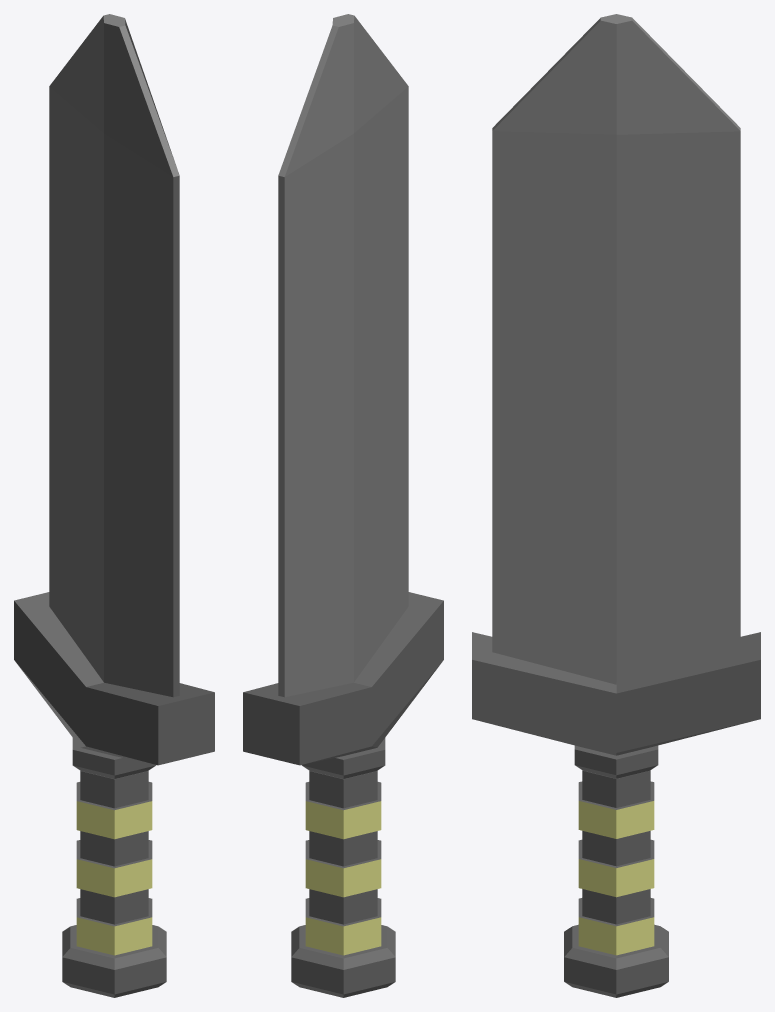
File: sword.fbx
3 views of the same model, side by side, from view 1: azimuth 30°, elevation 25°; view 2: azimuth 150°, elevation 25°; view 3: azimuth 270°, elevation 25° (orthographic).
Parts seen in each view (by area): view 1: Cube; view 2: Cube; view 3: Cube.
Boxes of the visible parts, x1,y1,x2,y2 form: Cube: [14, 14, 214, 997]; Cube: [243, 14, 443, 997]; Cube: [472, 14, 760, 997].
Bounding box in the file's own units: 369 × 3223 × 881.
